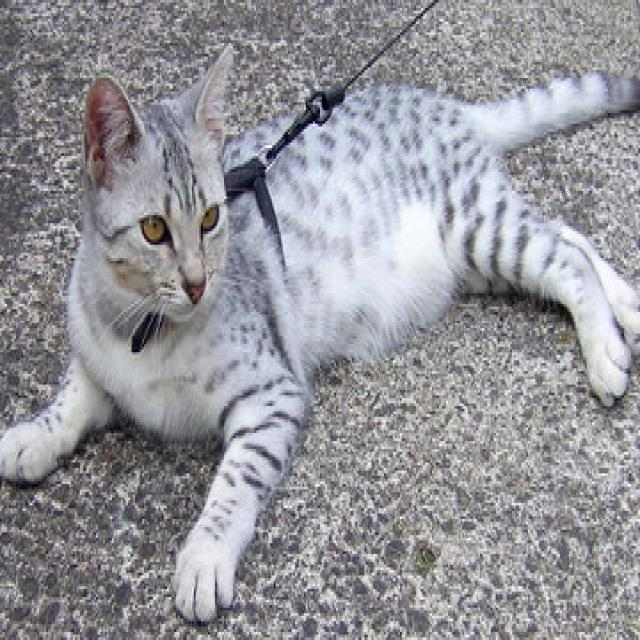Egyptian Mau: (0, 41, 640, 622)
